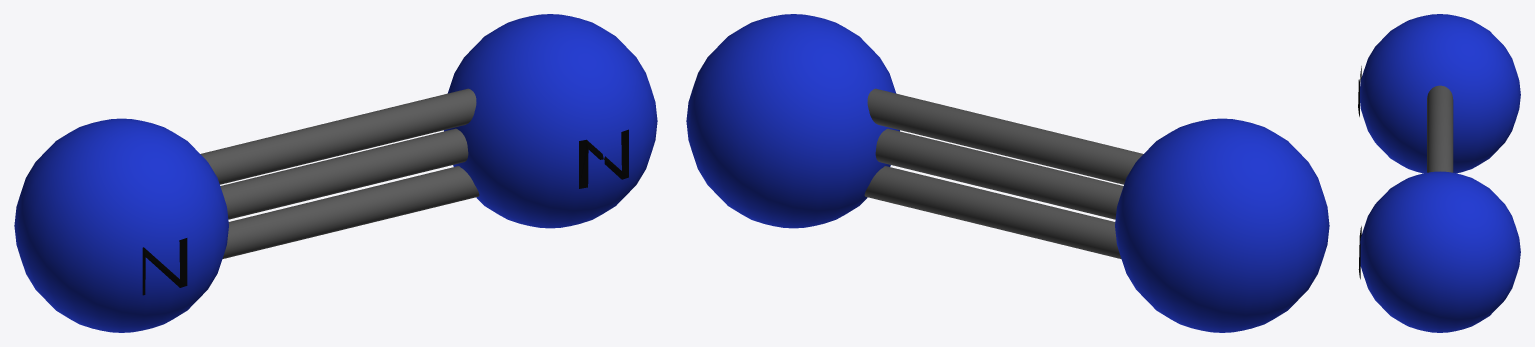
The picture shows the model from 3 angles, left to right: view 1: azimuth 30°, elevation 25°; view 2: azimuth 150°, elevation 25°; view 3: azimuth 270°, elevation 25°; orthographic projection. The views are drawn at different scales.
Parts seen in each view (by area): view 1: Sphere.007, Sphere.008, Cylinder.003, Cylinder.007, Cylinder.006, Text.008, Text.007; view 2: Sphere.007, Sphere.008, Cylinder.003, Cylinder.007, Cylinder.006; view 3: Sphere.008, Sphere.007, Cylinder.003.
Boxes of the visible parts, x1,y1,x2,y2 form: Sphere.007: (14, 118, 228, 332); Sphere.008: (444, 14, 657, 228); Cylinder.003: (200, 88, 476, 184); Cylinder.007: (222, 166, 479, 258); Cylinder.006: (220, 128, 468, 219); Text.008: (579, 129, 628, 188); Text.007: (142, 238, 187, 295); Sphere.007: (1115, 118, 1329, 332); Sphere.008: (686, 14, 899, 228); Cylinder.003: (867, 88, 1143, 184); Cylinder.007: (864, 166, 1121, 258); Cylinder.006: (875, 128, 1123, 219); Sphere.008: (1360, 171, 1520, 332); Sphere.007: (1360, 14, 1520, 173); Cylinder.003: (1427, 85, 1453, 172).
Bounding box in the file's own units: 469 × 142 × 143.
